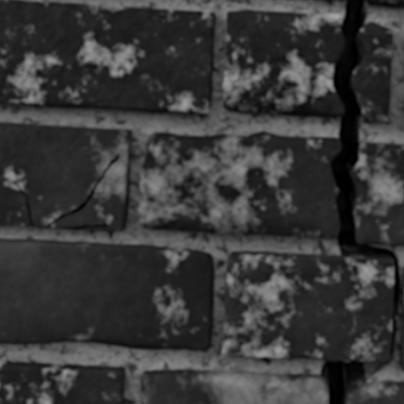brick: (0, 0, 213, 112), (0, 239, 212, 350), (223, 251, 392, 359), (0, 122, 130, 230), (0, 361, 123, 403), (400, 270, 403, 370)
broken_brick: (135, 130, 338, 239), (222, 8, 342, 116), (140, 368, 325, 403), (352, 140, 403, 245), (353, 20, 393, 121), (347, 379, 403, 403), (366, 0, 403, 7)
crack: (319, 0, 401, 403), (43, 152, 119, 227), (12, 178, 32, 226), (61, 222, 111, 229)
